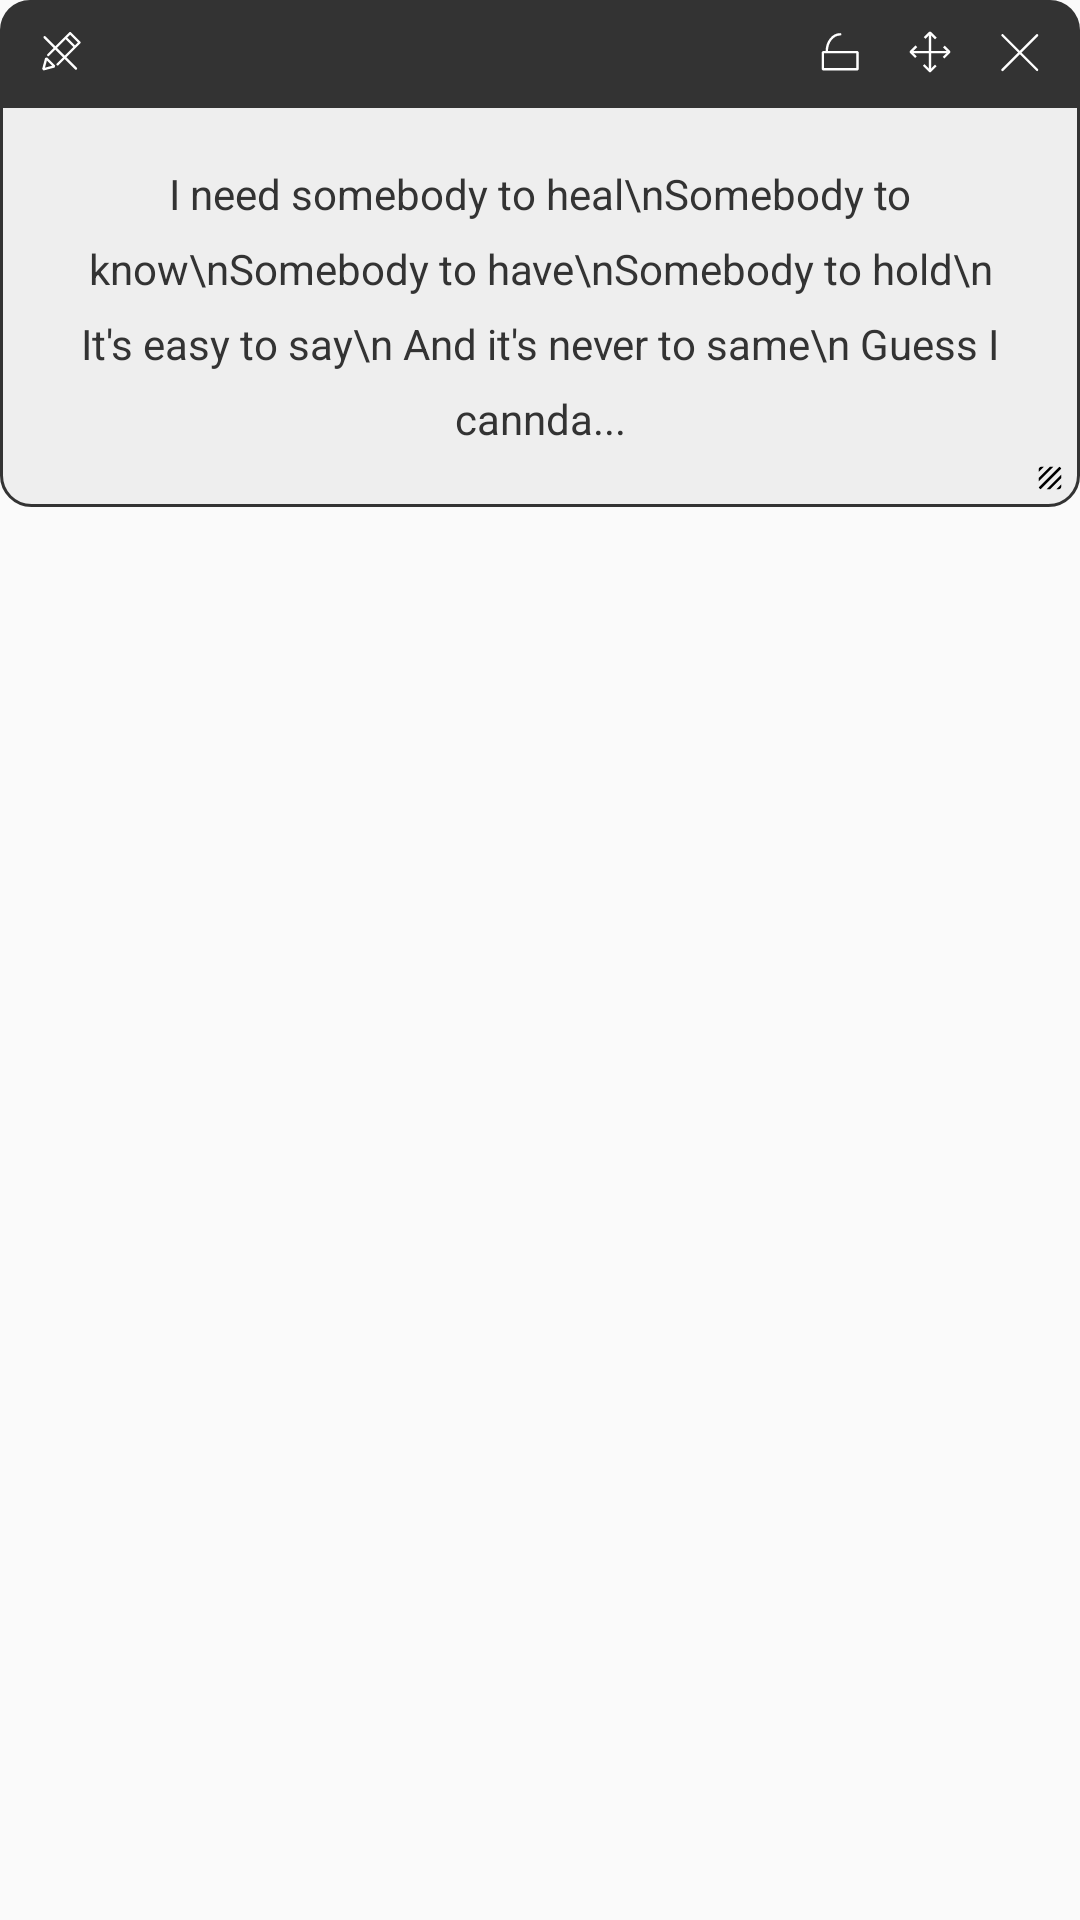

Icons on this 1080px x 1920px Android screen, each with the point to tap as (x,y):
close: (1020,53)
edit off: (61,51)
lock off: (840,52)
move: (930,52)
